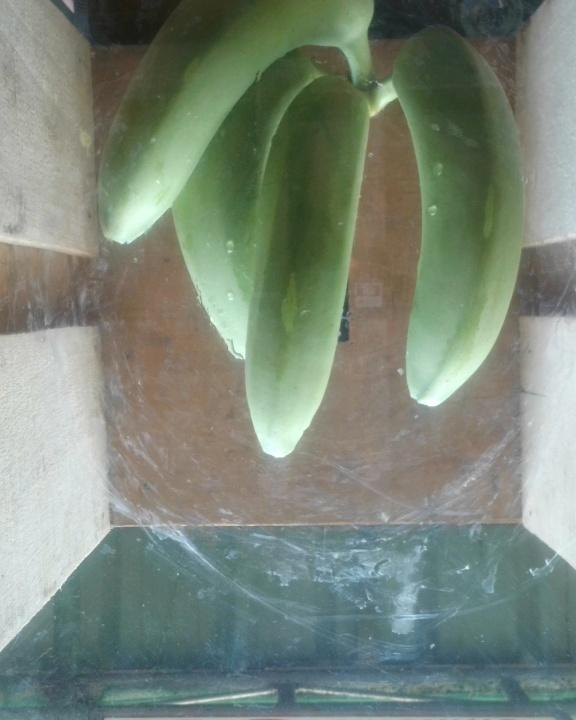SPOT: (90, 1, 559, 458)
